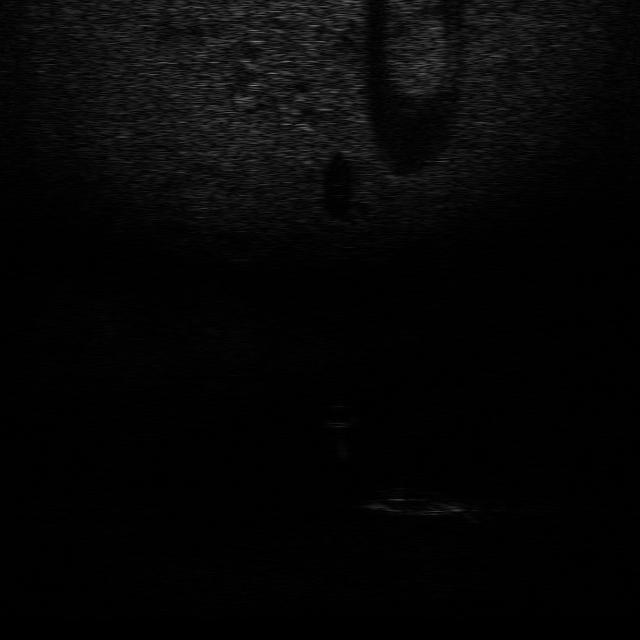ball: (314, 401, 361, 429)
tyre: (362, 482, 470, 521)
